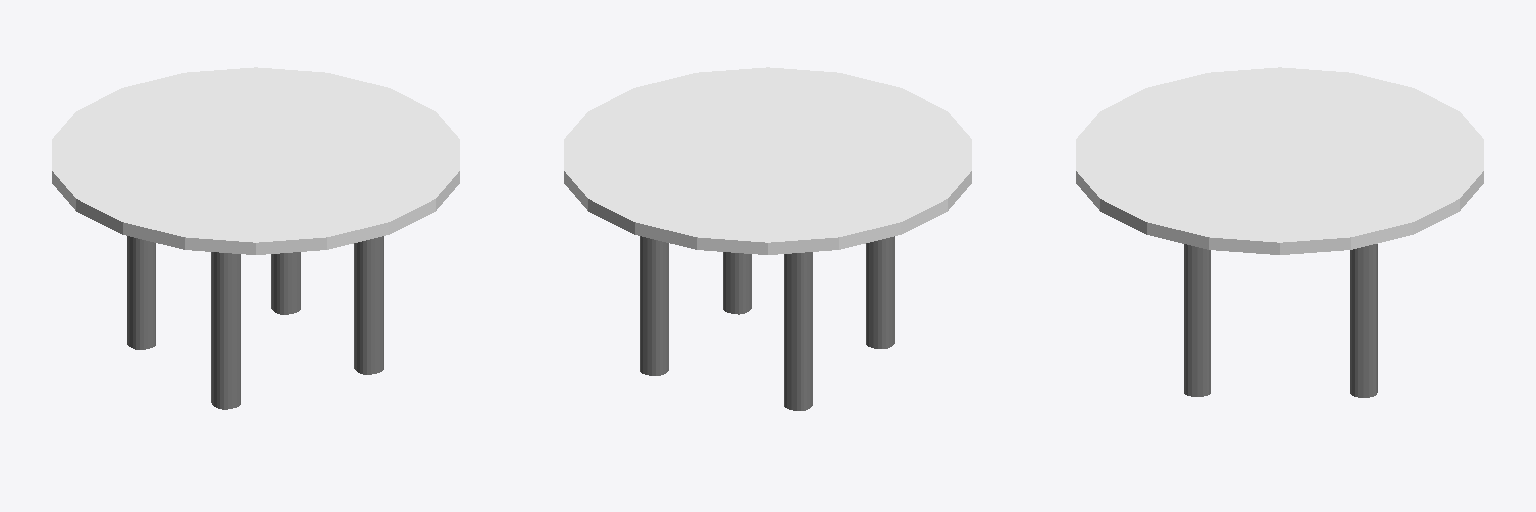
The model's file is kitchenTable.obj.
The picture shows the model from 3 angles: view 1: azimuth 30°, elevation 25°; view 2: azimuth 150°, elevation 25°; view 3: azimuth 270°, elevation 25°; orthographic projection.
Visible parts, largest first — view 1: Cylinder001, Box007, Box006, Box005, Box001; view 2: Cylinder001, Box005, Box001, Box007, Box006; view 3: Cylinder001, Box001, Box006.
Boxes of the visible parts, x1=… form: Cylinder001: x1=52, y1=67, x2=459, y2=254; Box007: x1=211, y1=252, x2=240, y2=409; Box006: x1=354, y1=236, x2=383, y2=374; Box005: x1=127, y1=236, x2=155, y2=349; Box001: x1=271, y1=252, x2=300, y2=314; Cylinder001: x1=564, y1=67, x2=971, y2=254; Box005: x1=784, y1=252, x2=812, y2=410; Box001: x1=640, y1=236, x2=668, y2=375; Box007: x1=866, y1=236, x2=894, y2=348; Box006: x1=723, y1=252, x2=751, y2=314; Cylinder001: x1=1076, y1=67, x2=1483, y2=254; Box001: x1=1350, y1=244, x2=1377, y2=397; Box006: x1=1184, y1=244, x2=1210, y2=396.
Size of the model in its own units: 30 by 16.11 by 29.54.